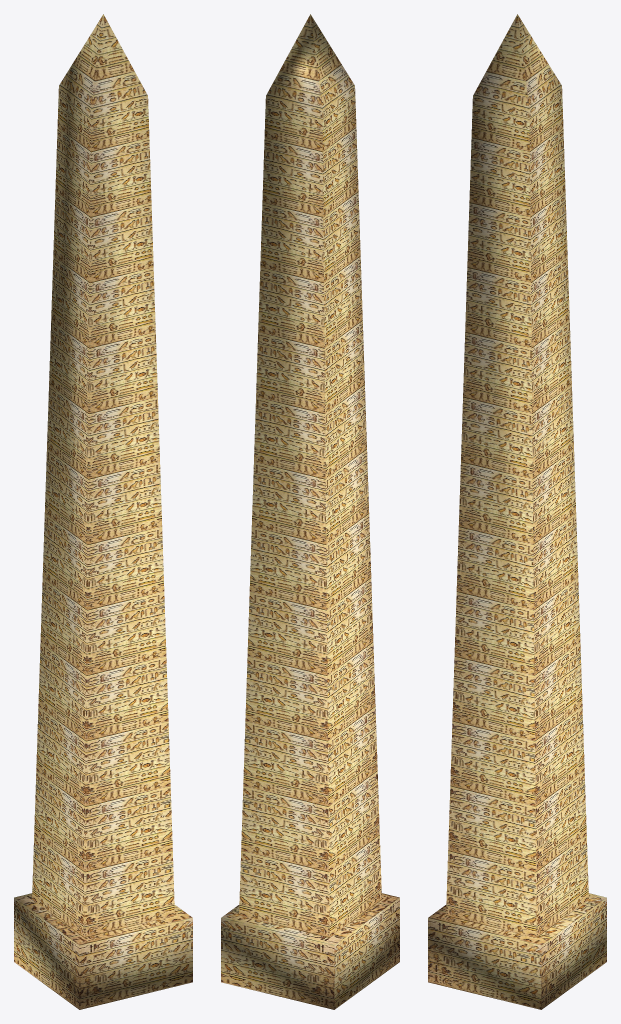
The model's file is obelisk.obj.
The picture shows the model from 3 angles, left to right: view 1: azimuth 30°, elevation 25°; view 2: azimuth 150°, elevation 25°; view 3: azimuth 330°, elevation 25°; orthographic projection.
Visible parts, largest first — view 1: Cube; view 2: Cube; view 3: Cube.
Part boxes in pixels (x1,y1,x2,y2): Cube: [14, 14, 192, 1009]; Cube: [221, 14, 399, 1009]; Cube: [428, 14, 606, 1009].
Size of the model in its own units: 0.5 by 4.04 by 0.5.
